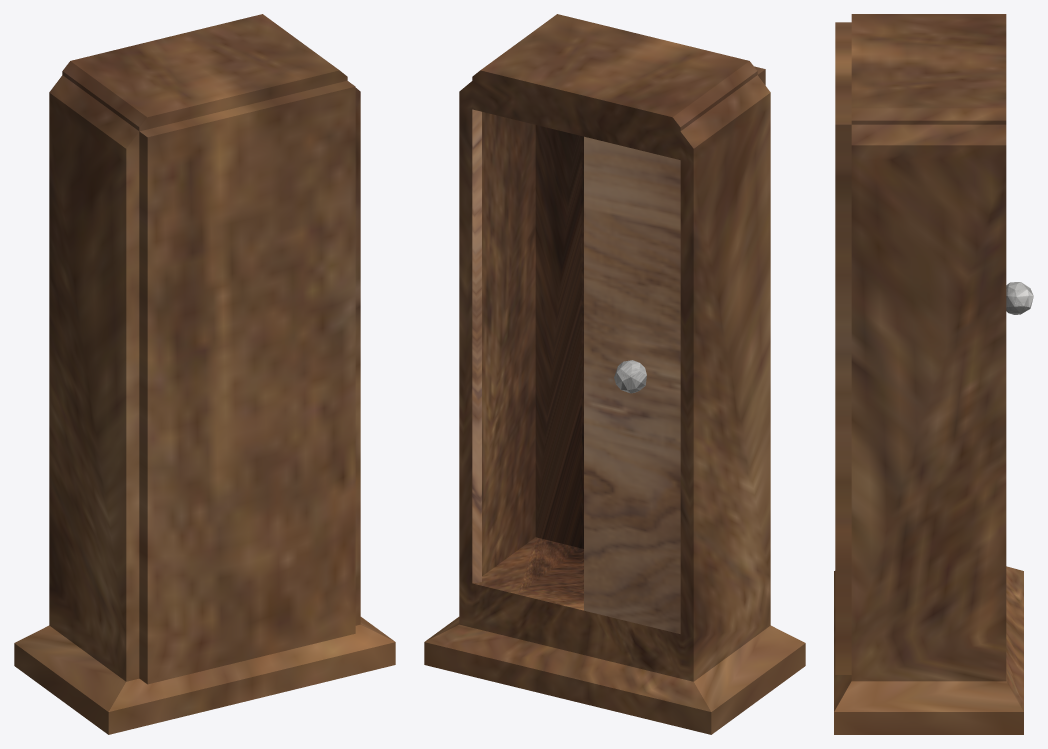
The model's file is armario_abre.fbx.
3 views of the same model, side by side, from view 1: azimuth 30°, elevation 25°; view 2: azimuth 150°, elevation 25°; view 3: azimuth 270°, elevation 25° (orthographic).
Parts seen in each view (by area): view 1: armario; view 2: armario; view 3: armario.
Part boxes in pixels (x1,y1,x2,y2): armario: (14,14,395,734); armario: (424,14,805,734); armario: (834,14,1033,734).
Bounding box in the file's own units: 123 × 245 × 73.43.
1 material, 1 textured.
